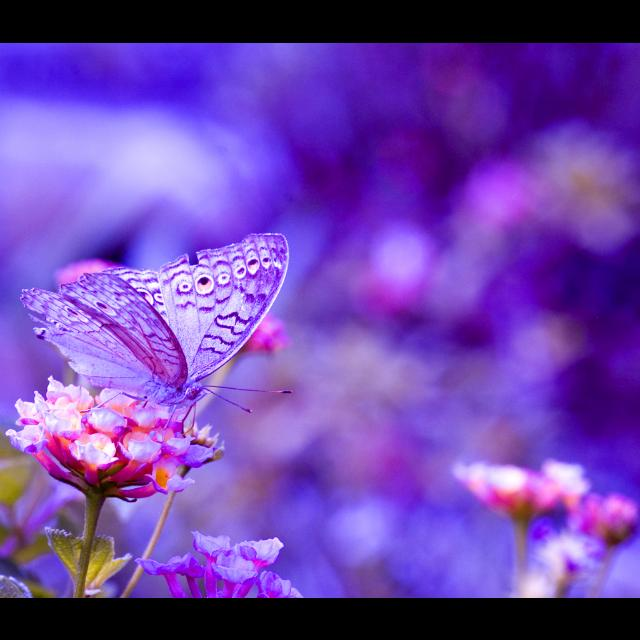Flower: (7, 372, 221, 496), (52, 256, 292, 354), (138, 534, 302, 596), (453, 460, 563, 520), (570, 490, 638, 540)
